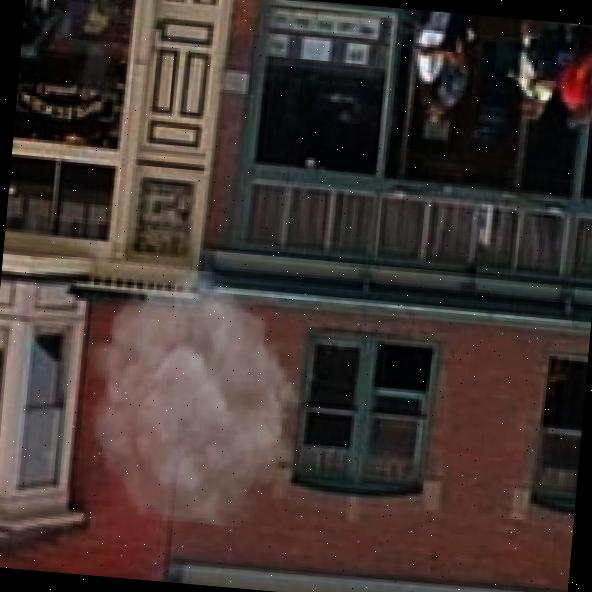smoke: (67, 261, 317, 531)
